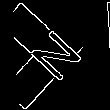N_SE: (23, 23, 87, 87)
